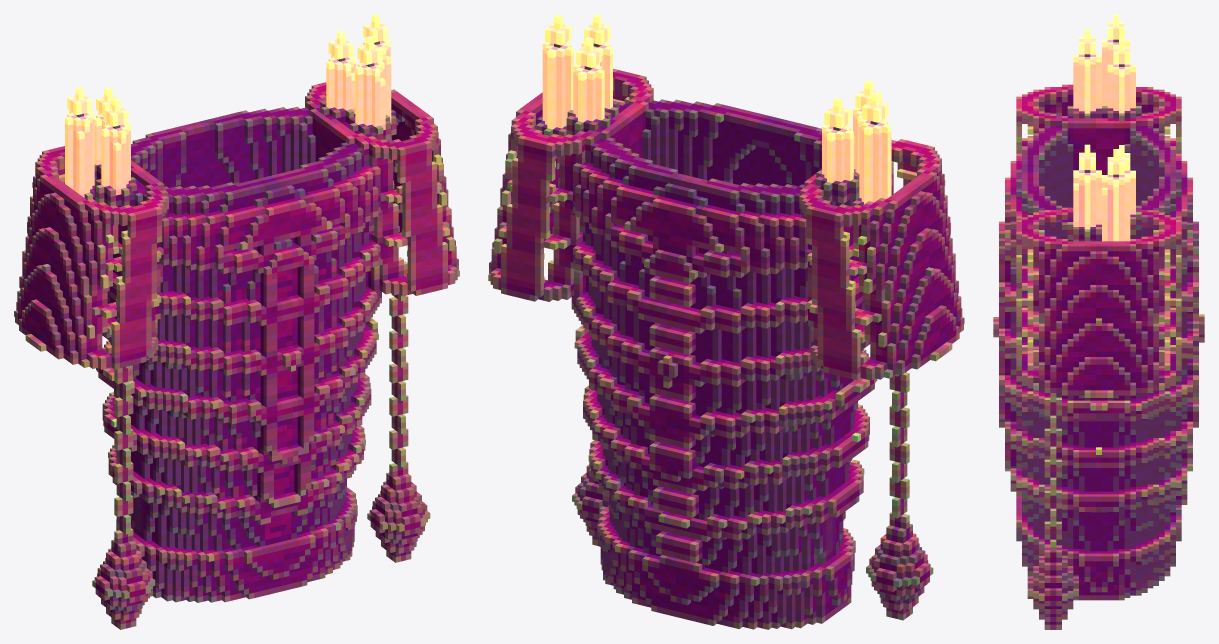
The model's file is armor_set3_chest.glb.
The picture shows the model from 3 angles, left to right: view 1: azimuth 30°, elevation 25°; view 2: azimuth 150°, elevation 25°; view 3: azimuth 270°, elevation 25°; orthographic projection. The views are drawn at different scales.
Visible parts, largest first — view 1: Set3_SkeletalCinderCageChest_7mm; view 2: Set3_SkeletalCinderCageChest_7mm; view 3: Set3_SkeletalCinderCageChest_7mm.
Boxes of the visible parts, x1=… form: Set3_SkeletalCinderCageChest_7mm: x1=14, y1=14, x2=459, y2=629; Set3_SkeletalCinderCageChest_7mm: x1=488, y1=14, x2=964, y2=629; Set3_SkeletalCinderCageChest_7mm: x1=993, y1=14, x2=1204, y2=629.
Size of the model in its own units: 0.539 by 0.651 by 0.259.
